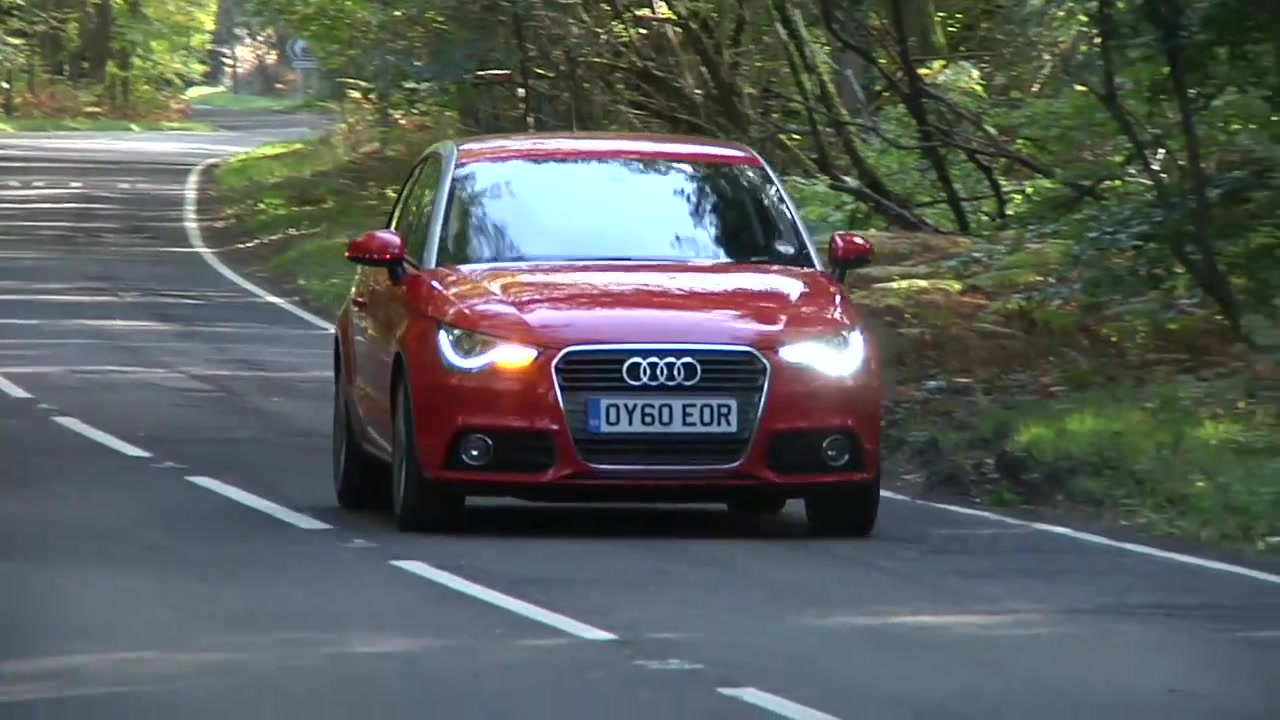car: (332, 133, 889, 539)
